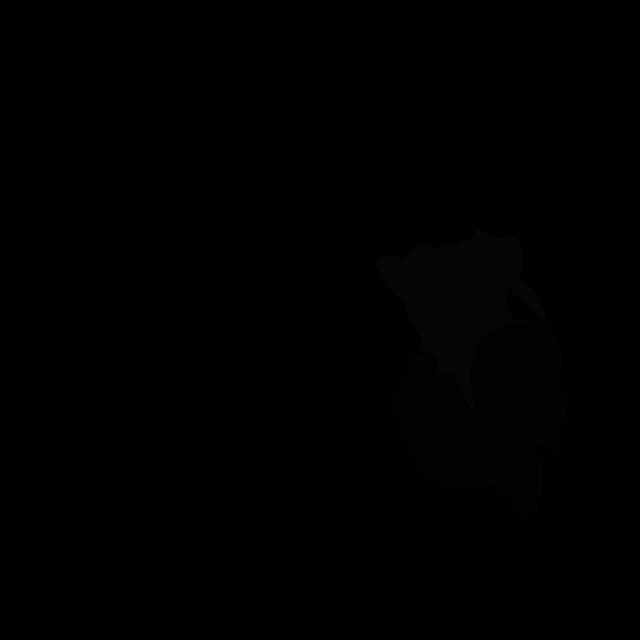cardboard: (386, 349, 514, 489), (492, 320, 568, 519), (469, 320, 542, 460)
rigid_plastic: (147, 437, 301, 621)
soft_plastic: (374, 230, 547, 412)
